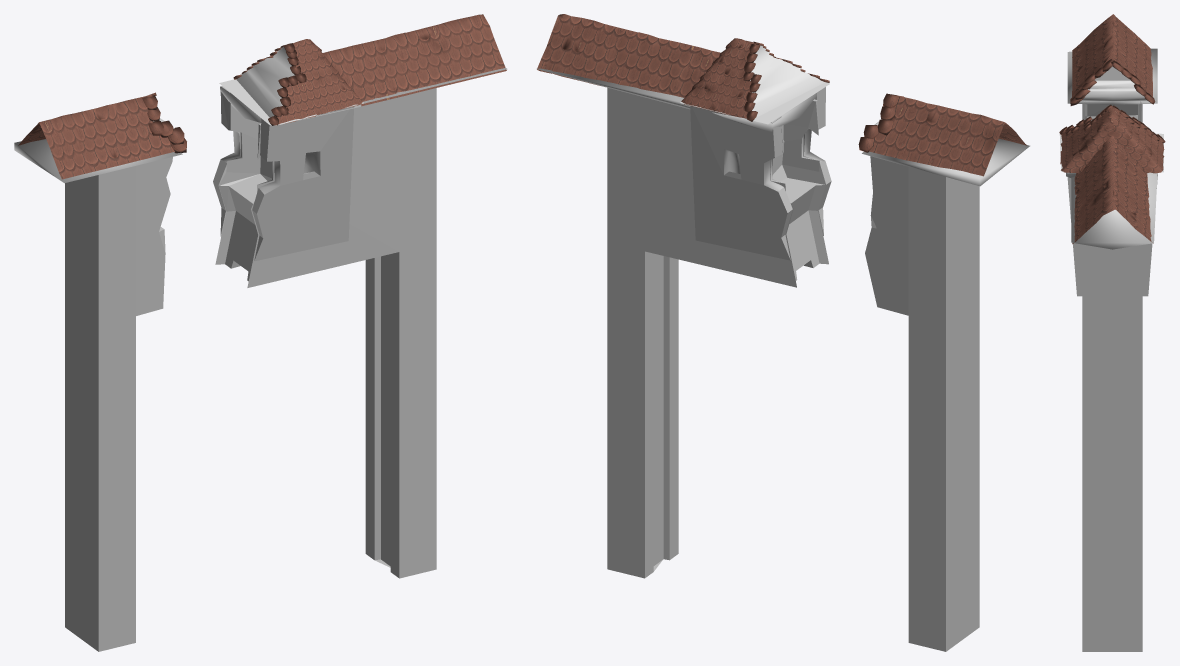
Rendered from bricks_bridge_lod4.fbx.
3 renders of one model, left to right at view 1: azimuth 30°, elevation 25°; view 2: azimuth 150°, elevation 25°; view 3: azimuth 270°, elevation 25°, orthographic. The views are drawn at different scales.
Parts seen in each view (by area): view 1: Lod4_middle_bricks_bridge; view 2: Lod4_middle_bricks_bridge; view 3: Lod4_middle_bricks_bridge, Plane.130.
Boxes of the visible parts, left/top/right/bottom form: Lod4_middle_bricks_bridge: left=14, top=14, right=507, bottom=651; Lod4_middle_bricks_bridge: left=537, top=14, right=1029, bottom=651; Lod4_middle_bricks_bridge: left=1059, top=14, right=1165, bottom=651; Plane.130: left=1081, top=66, right=1147, bottom=101.
Size of the model in its own units: 1143 by 1339 by 264.
